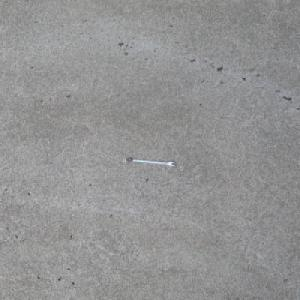Wrench: (124, 157, 176, 166)
